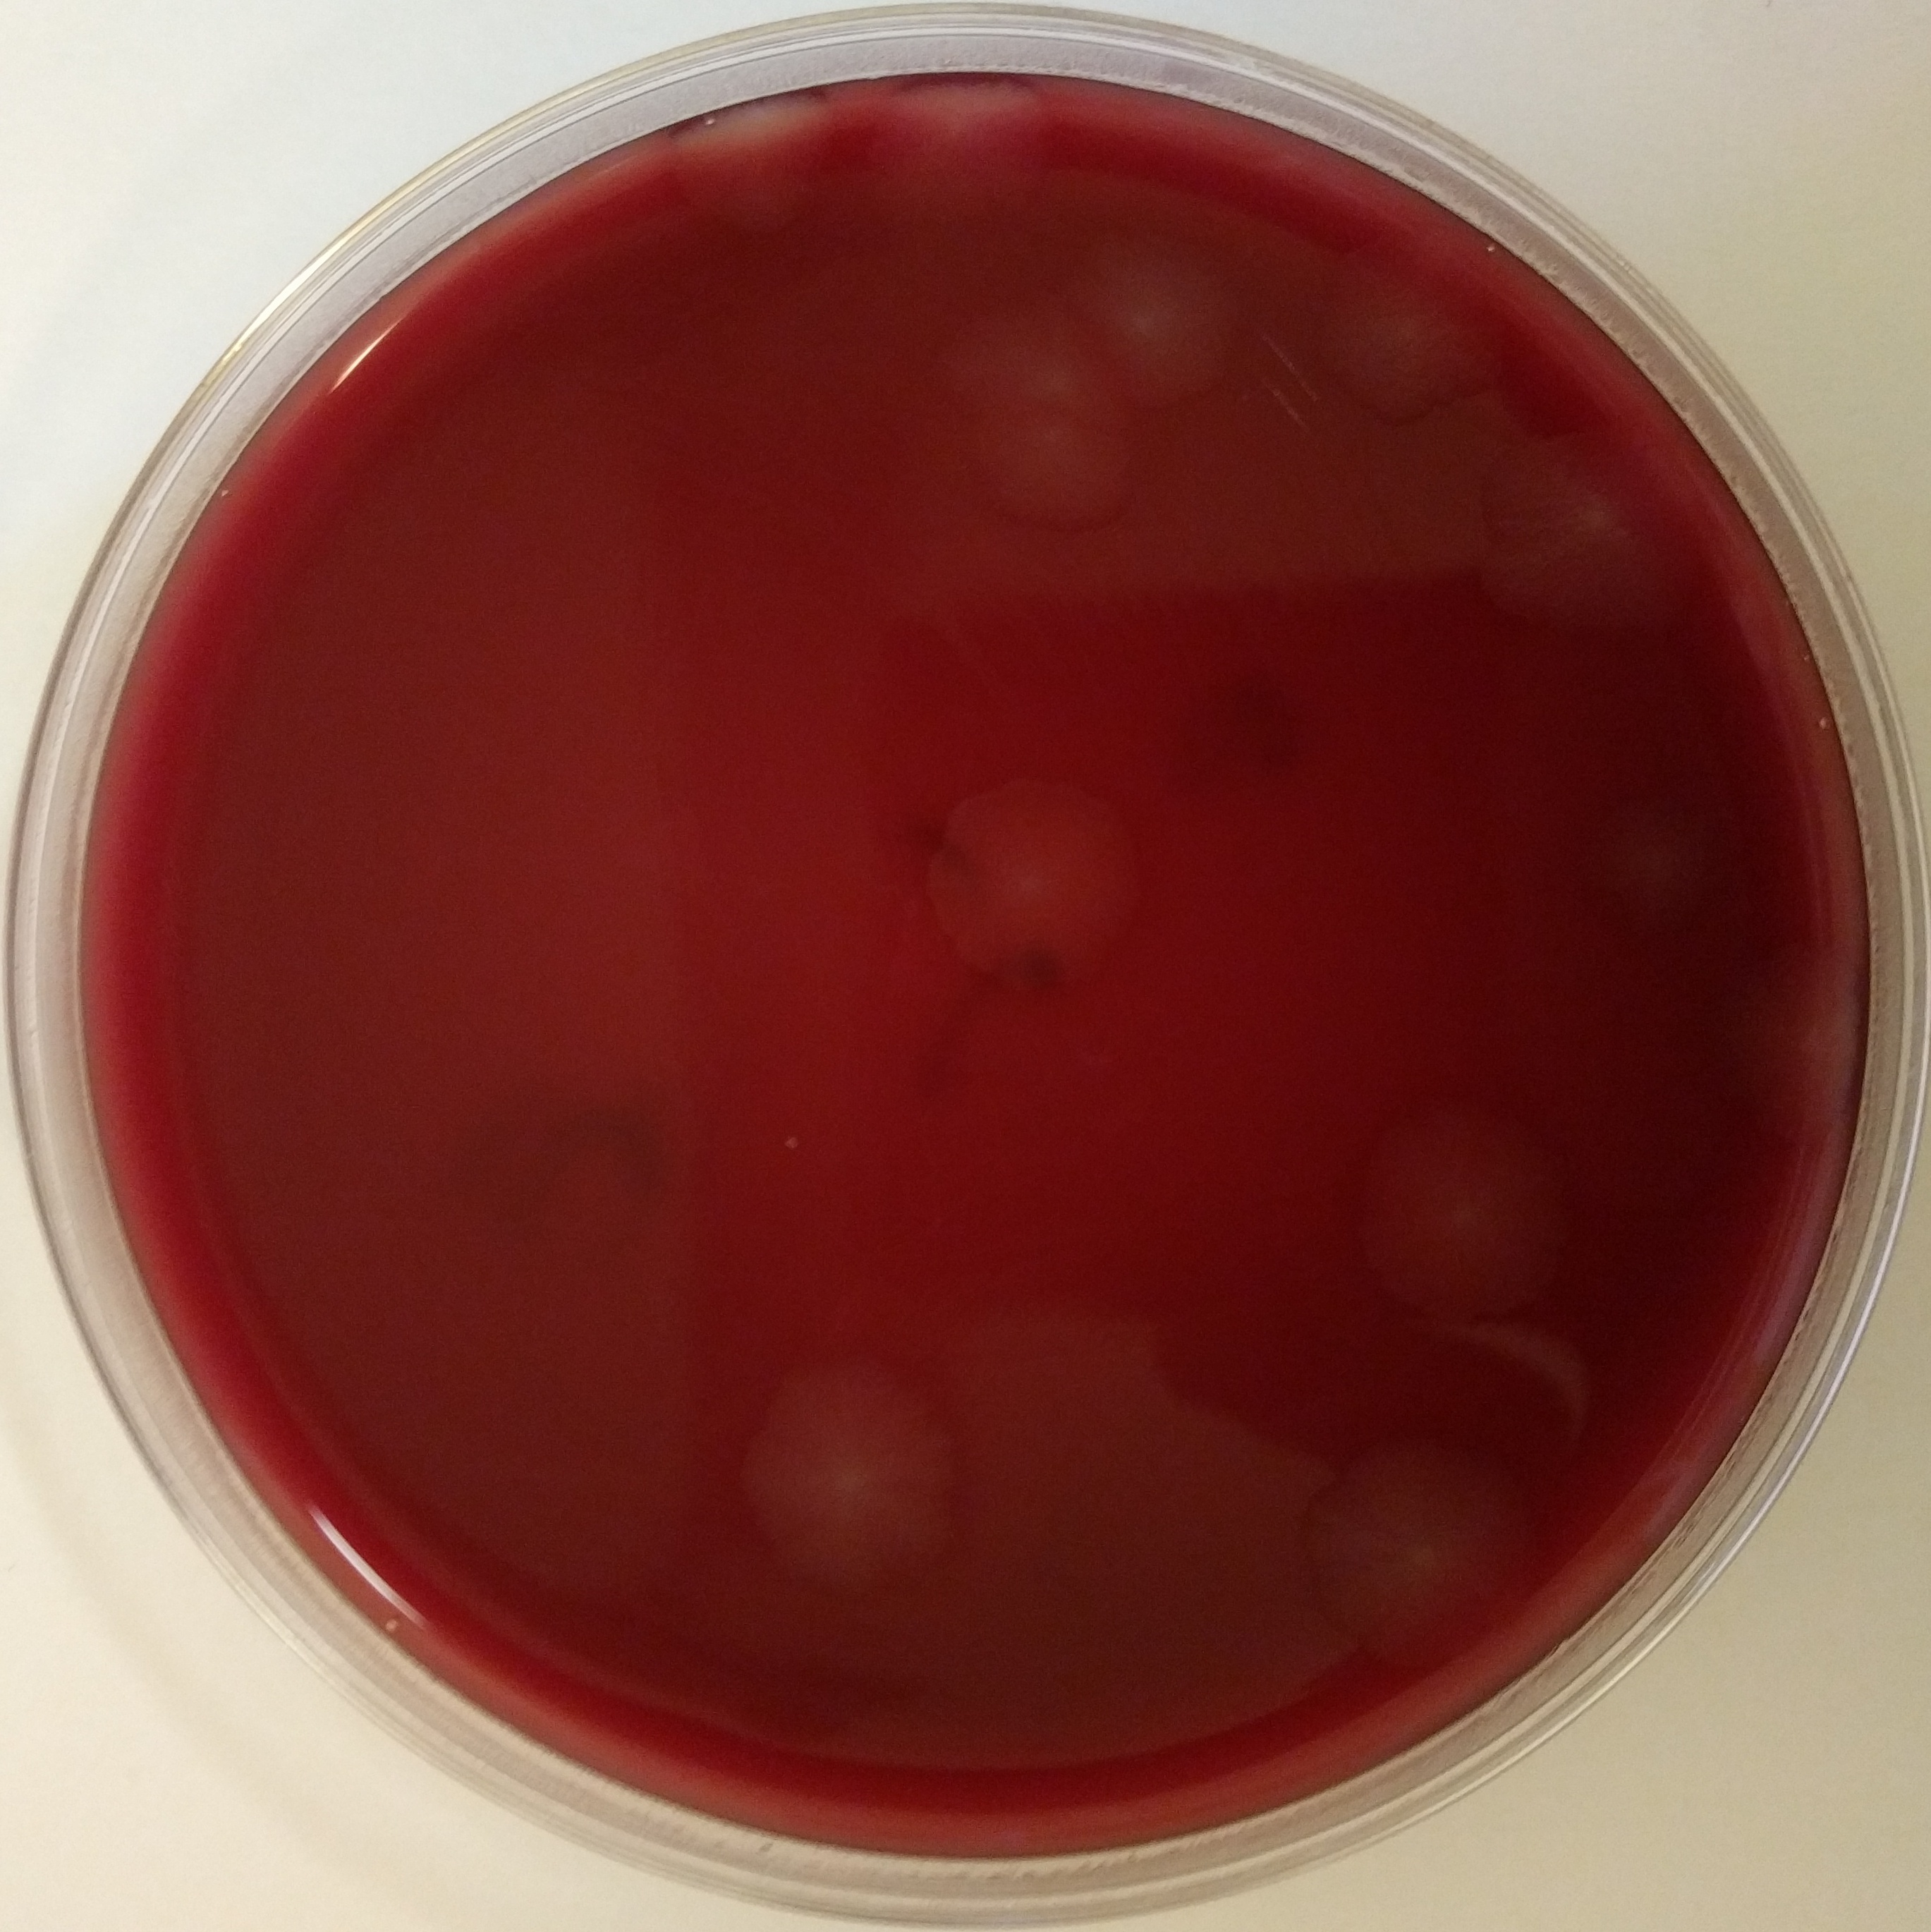sp08: (1282, 1391, 1547, 1675), (714, 1322, 976, 1592), (1340, 1063, 1602, 1332), (927, 253, 1144, 538), (930, 740, 1156, 1001), (1484, 403, 1710, 662), (1301, 251, 1519, 423), (1565, 755, 1752, 950), (1080, 209, 1252, 419), (663, 62, 847, 246), (1712, 924, 1869, 1134), (865, 57, 1052, 226)
